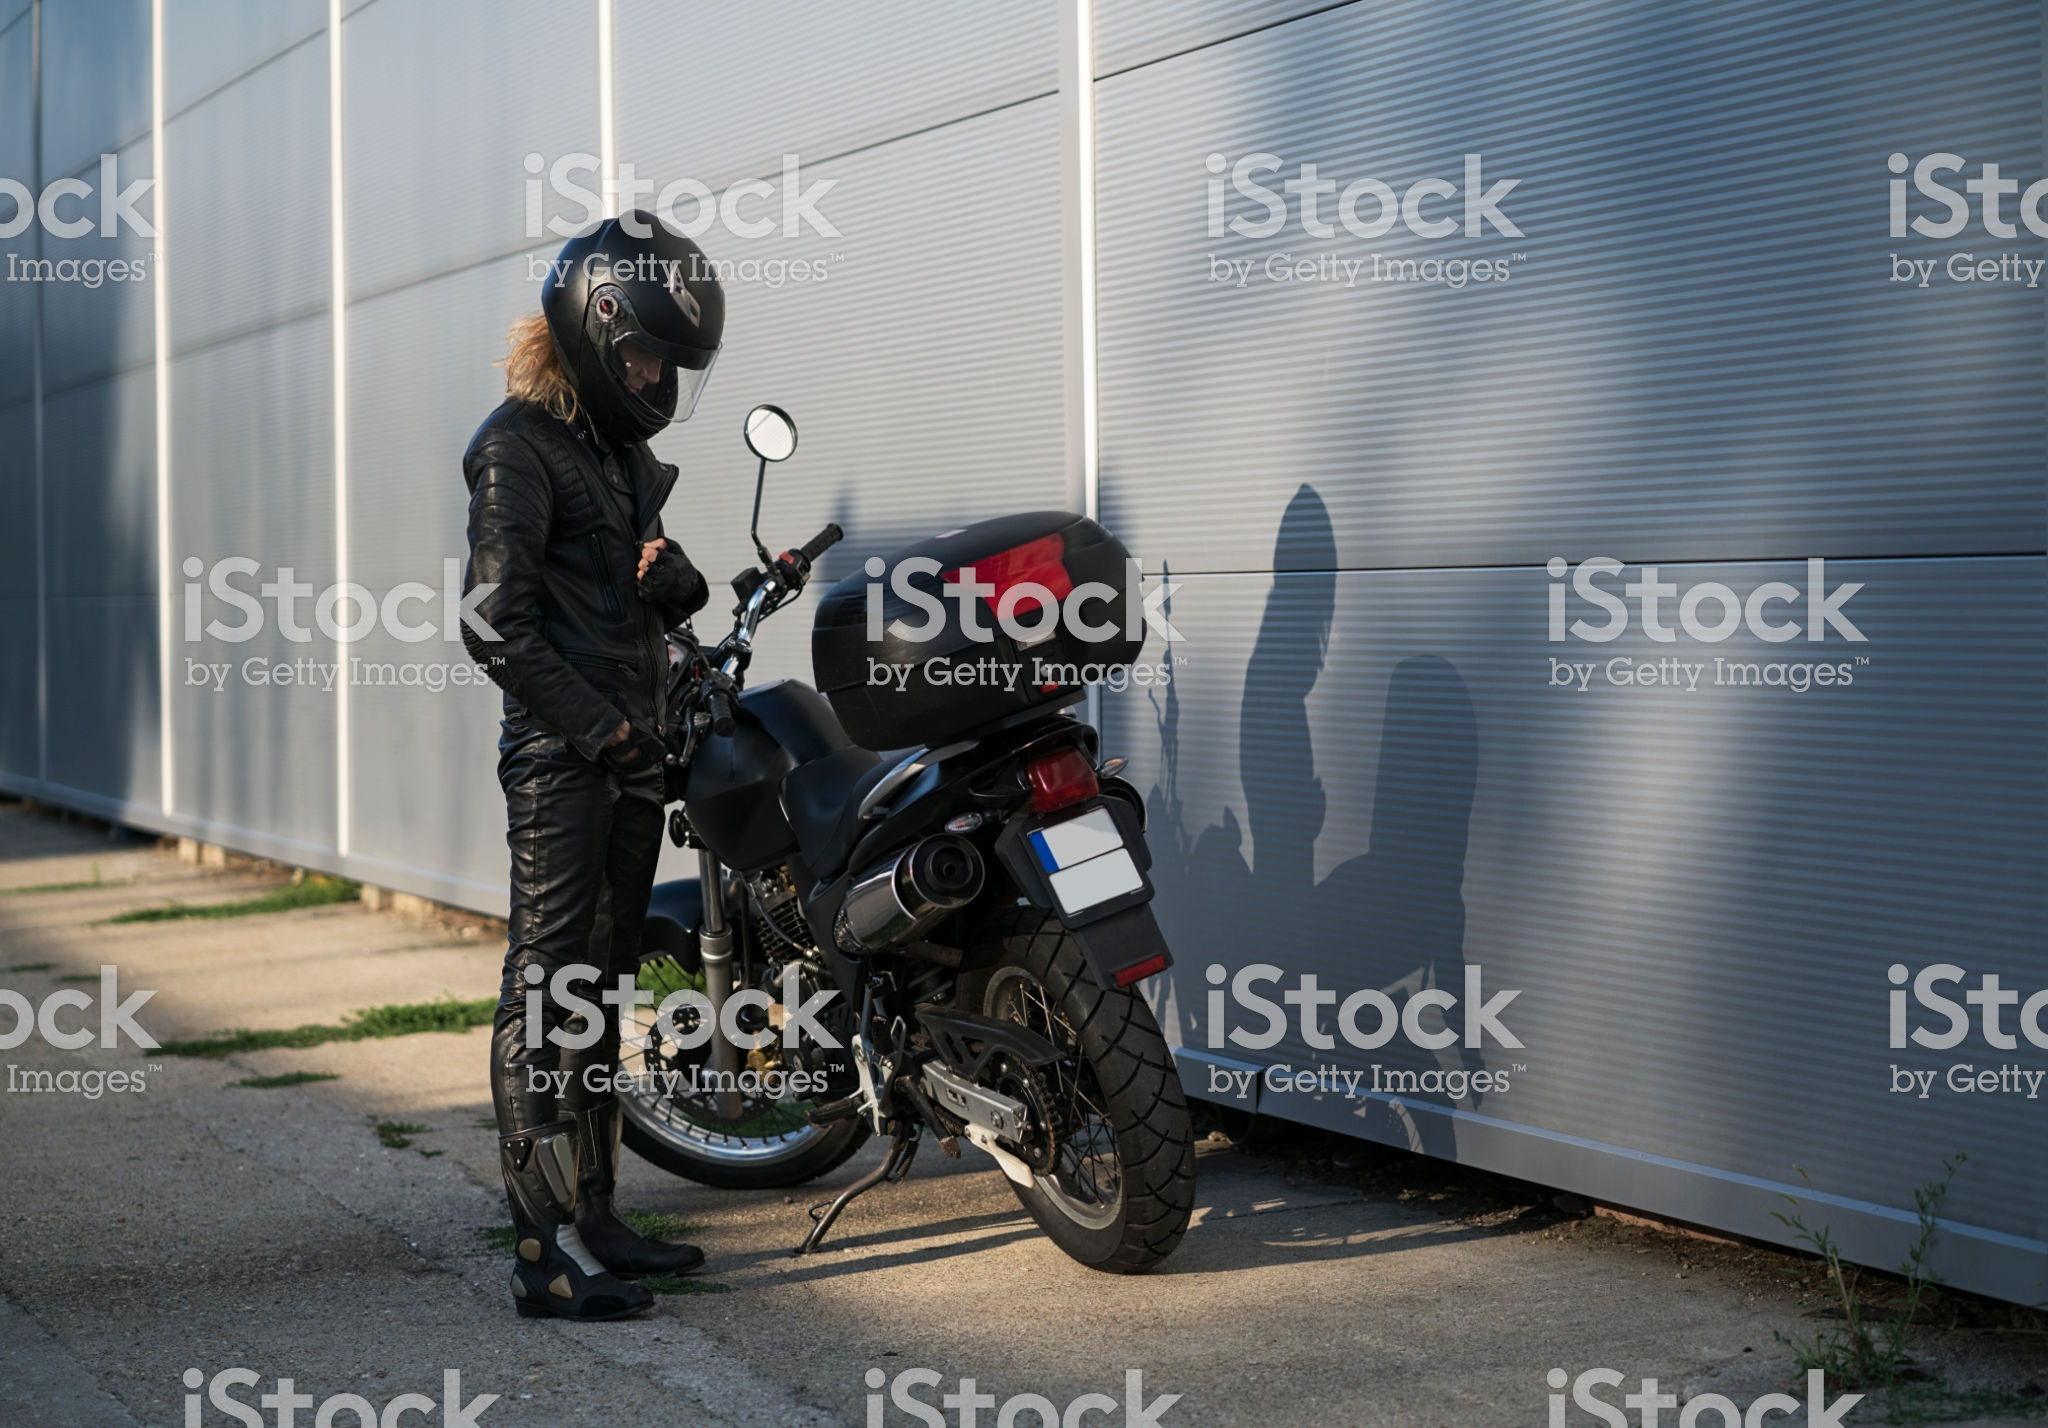helmet: (573, 341, 833, 597), (531, 210, 735, 442)
